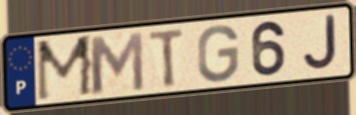6: (250, 19, 290, 79)
G: (196, 22, 241, 84)
J: (301, 13, 340, 74)
M: (34, 33, 95, 105), (86, 29, 147, 96)
T: (147, 26, 187, 90)
